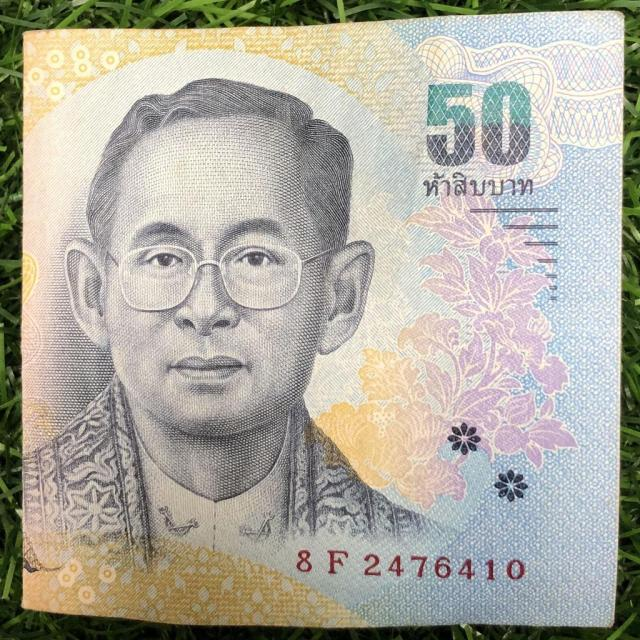THAI50: (21, 11, 623, 626)
